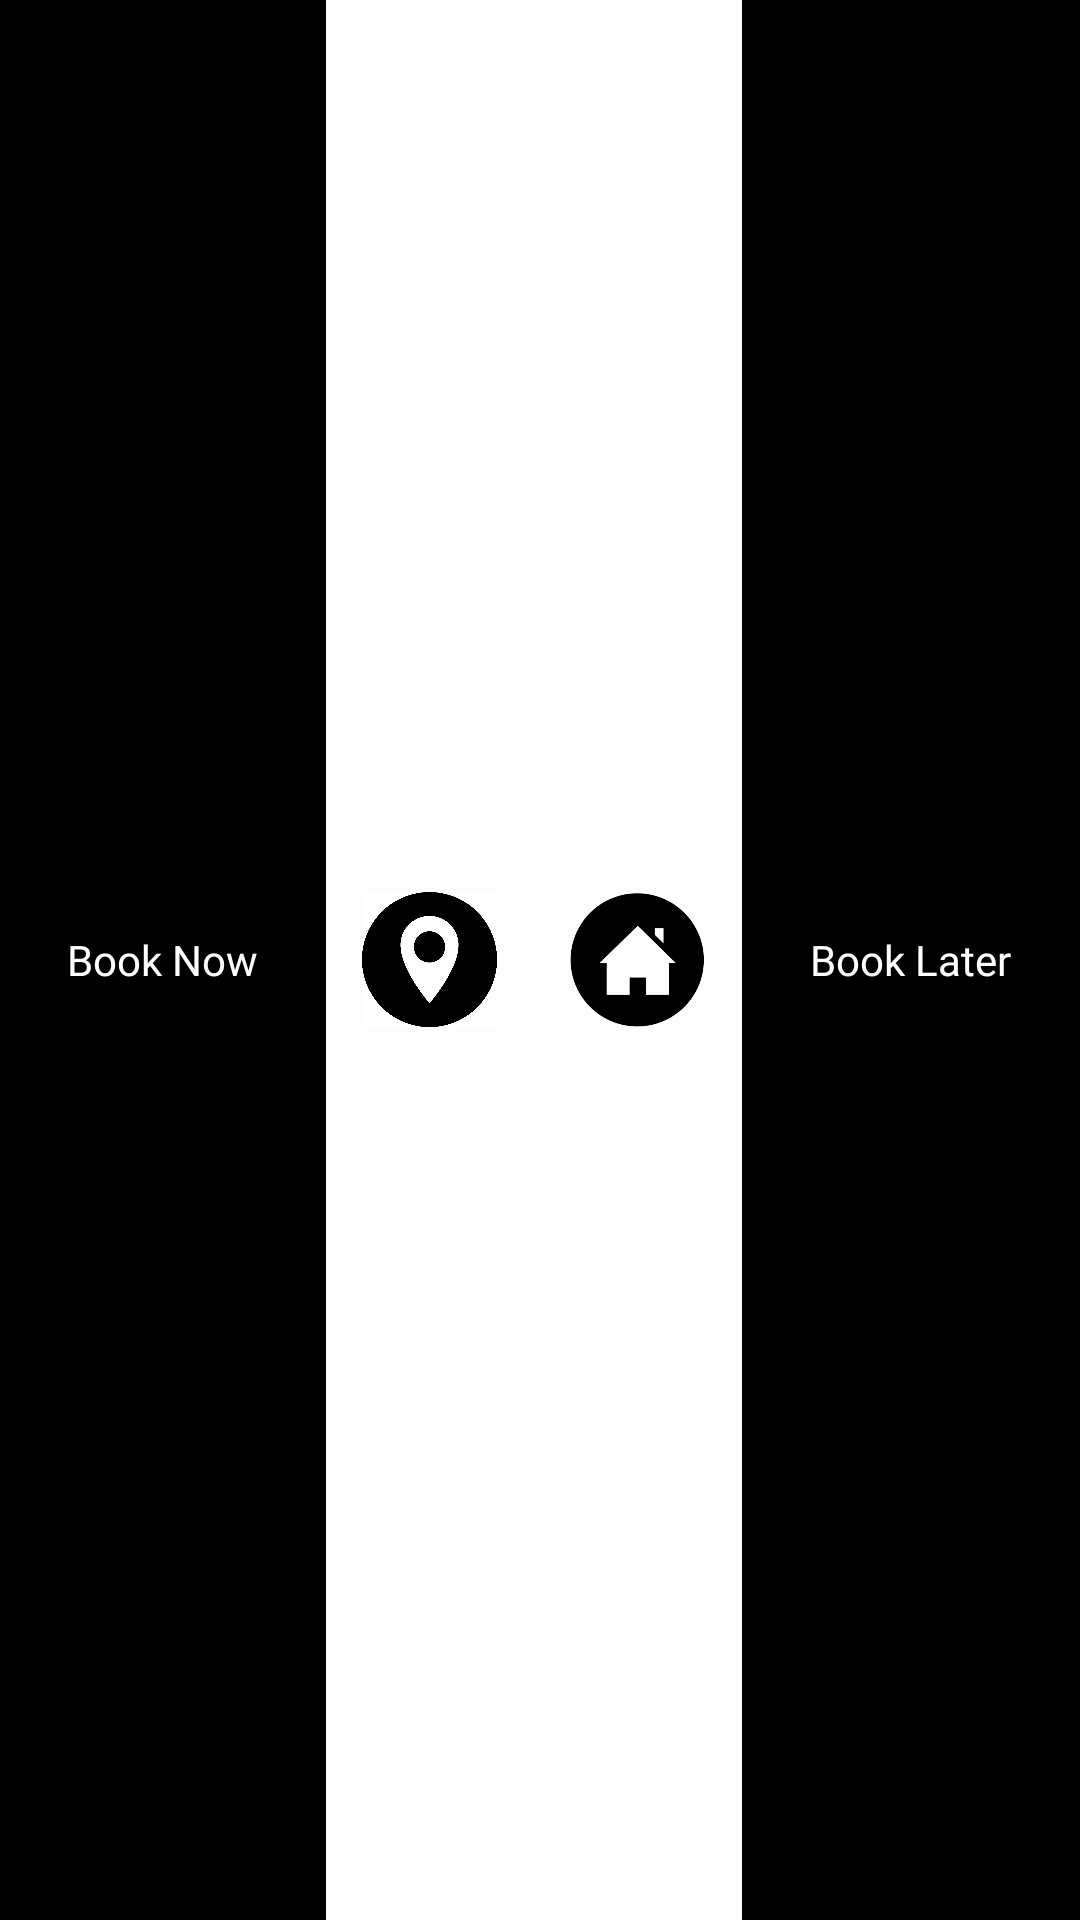

Where icons sit on this 1080w x 1920h app screen, as (x1, y1, x2, y2):
home: (570, 893, 704, 1027)
map: (362, 892, 497, 1027)
